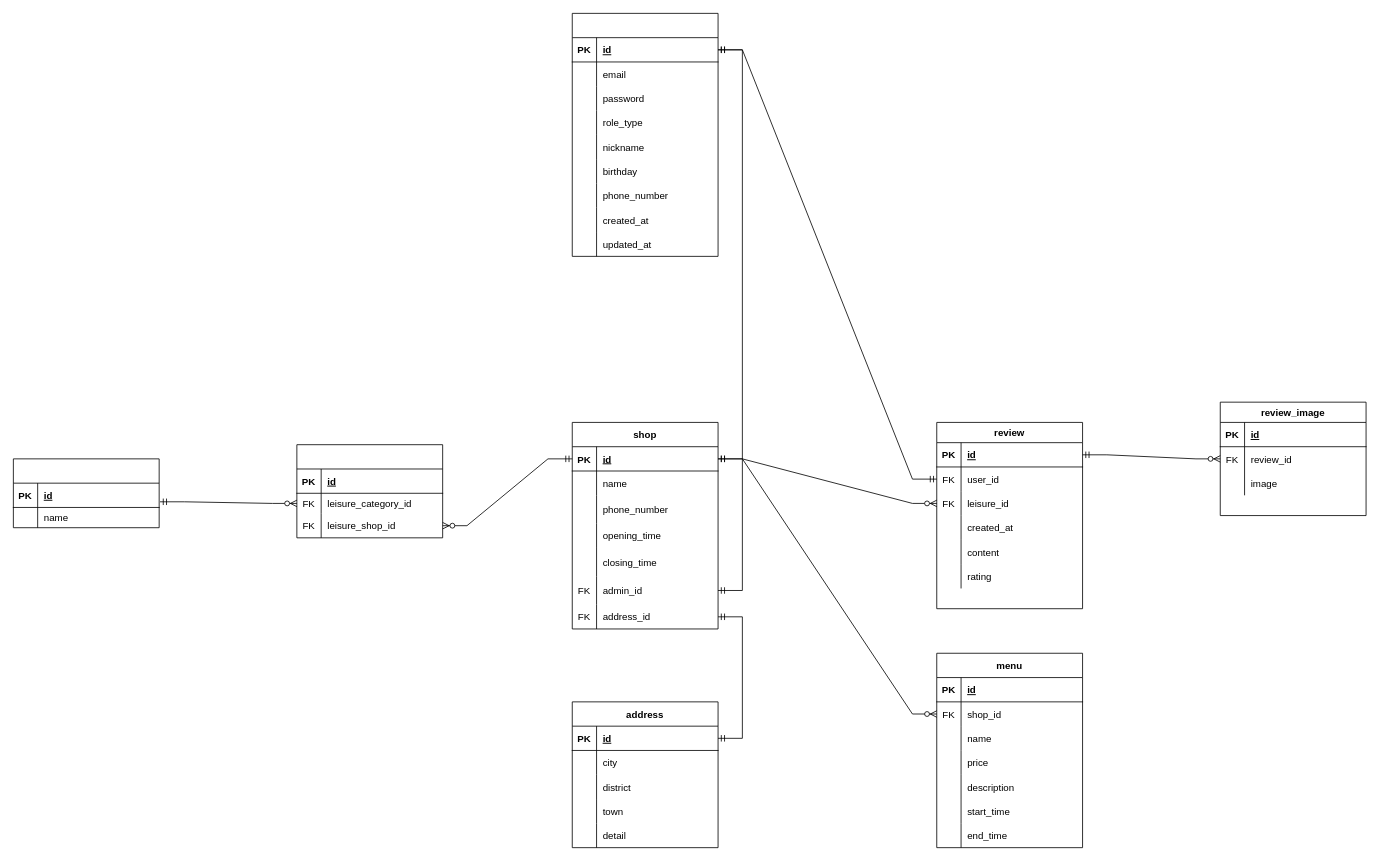
The diagram is 1379 pixels wide and 861 high, and some of its shapes have lost their labels. Here are the shapes that lost their labels. From the top down, the box of each, then its label:
(571, 13, 718, 256): user
(13, 458, 159, 528): category
(296, 444, 443, 538): shop_category
